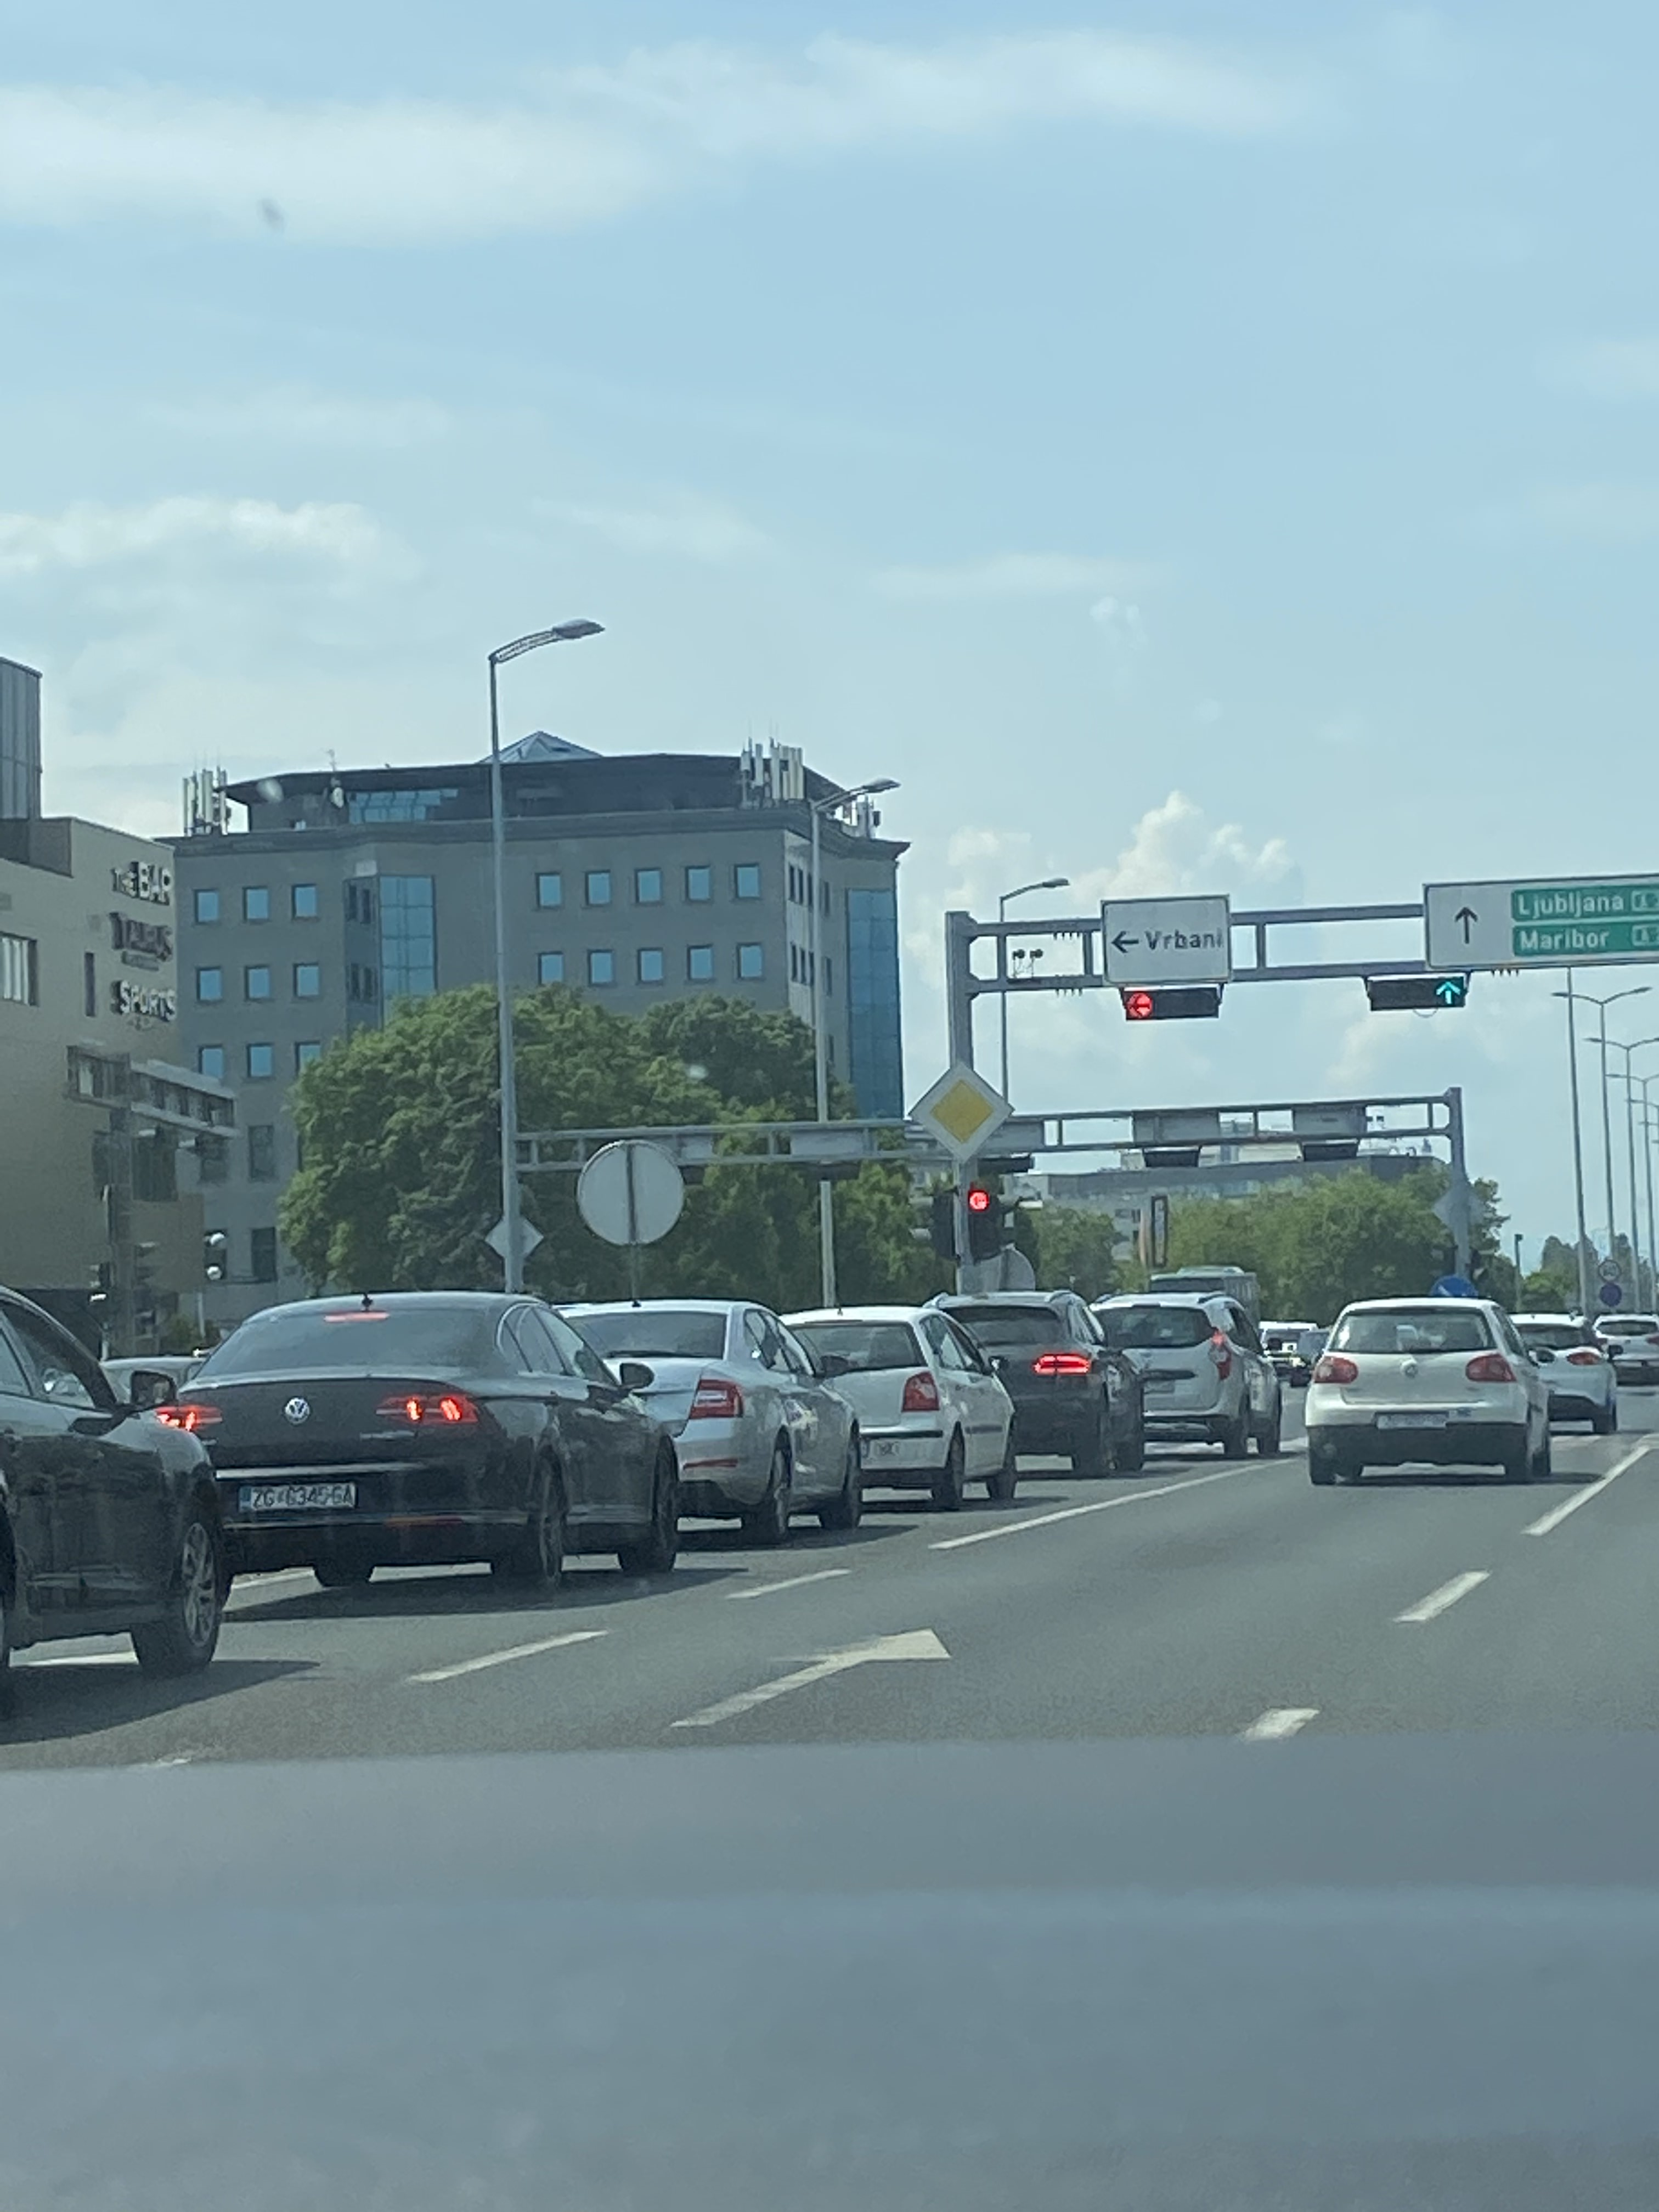Cesta s prednošću prolaska: (908, 1059, 1016, 1163)
